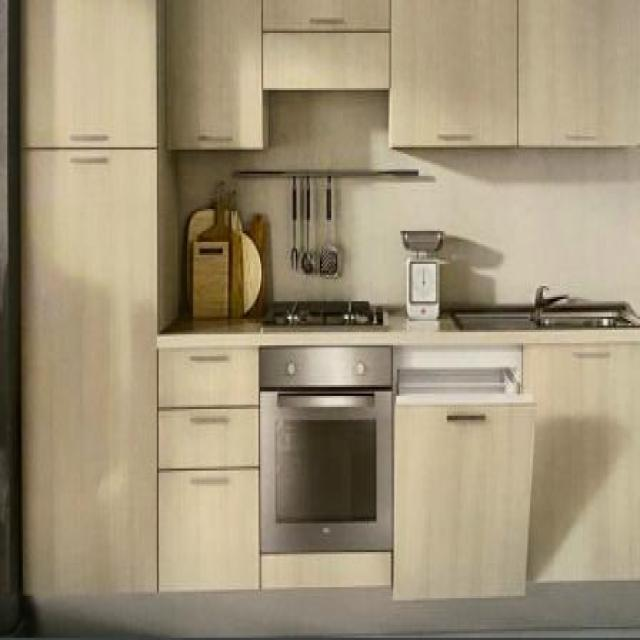dishwasher: (390, 341, 534, 596)
